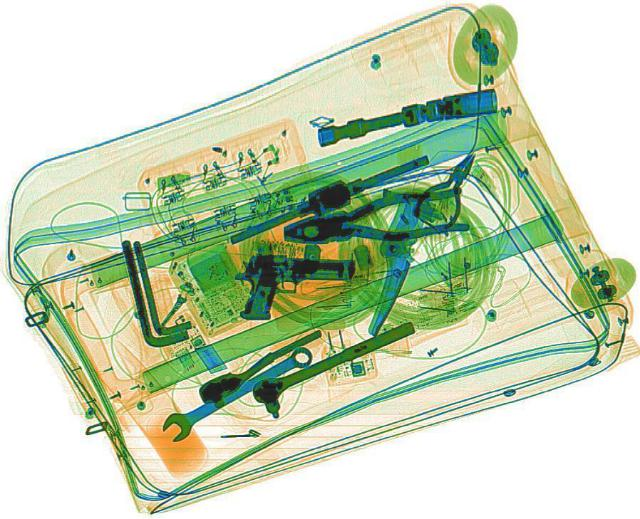Gun: (225, 251, 358, 324)
Pliers: (276, 186, 468, 254), (402, 143, 496, 232)
Wrench: (150, 339, 320, 444)
